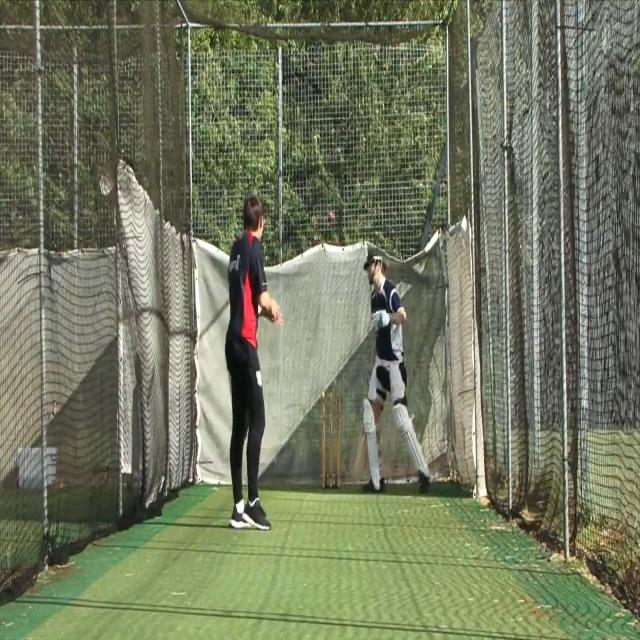batsman: (352, 245, 432, 497)
